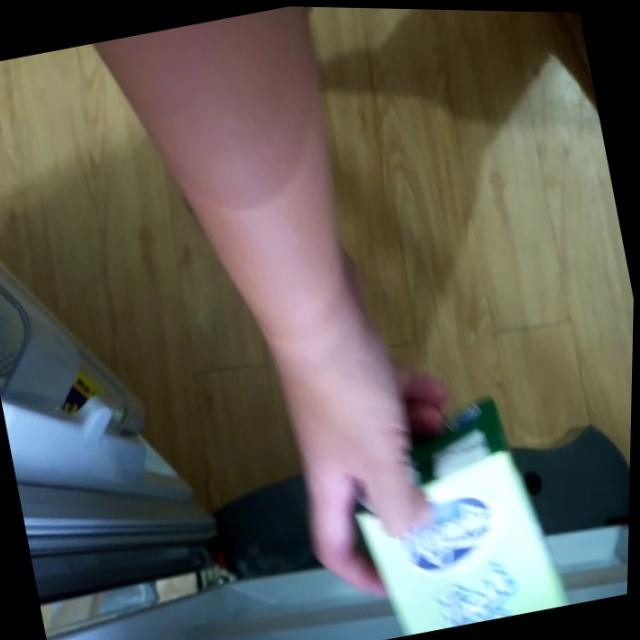milk: (329, 380, 578, 640)
